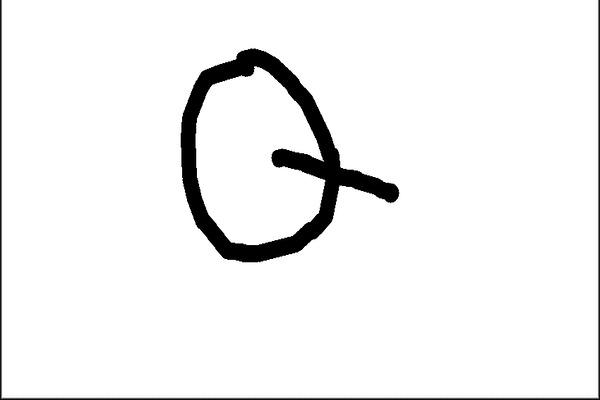Q: (164, 35, 405, 272)
